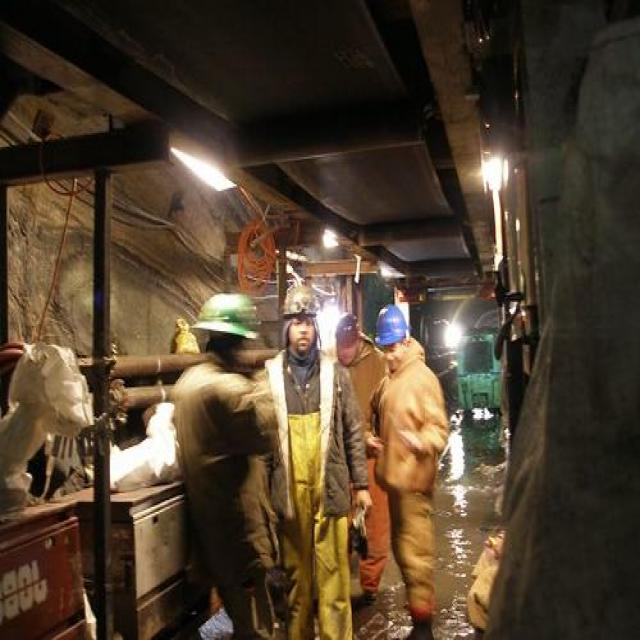Safety-Helmet: (186, 282, 264, 346), (270, 266, 326, 330), (368, 297, 418, 355), (328, 306, 364, 368)
